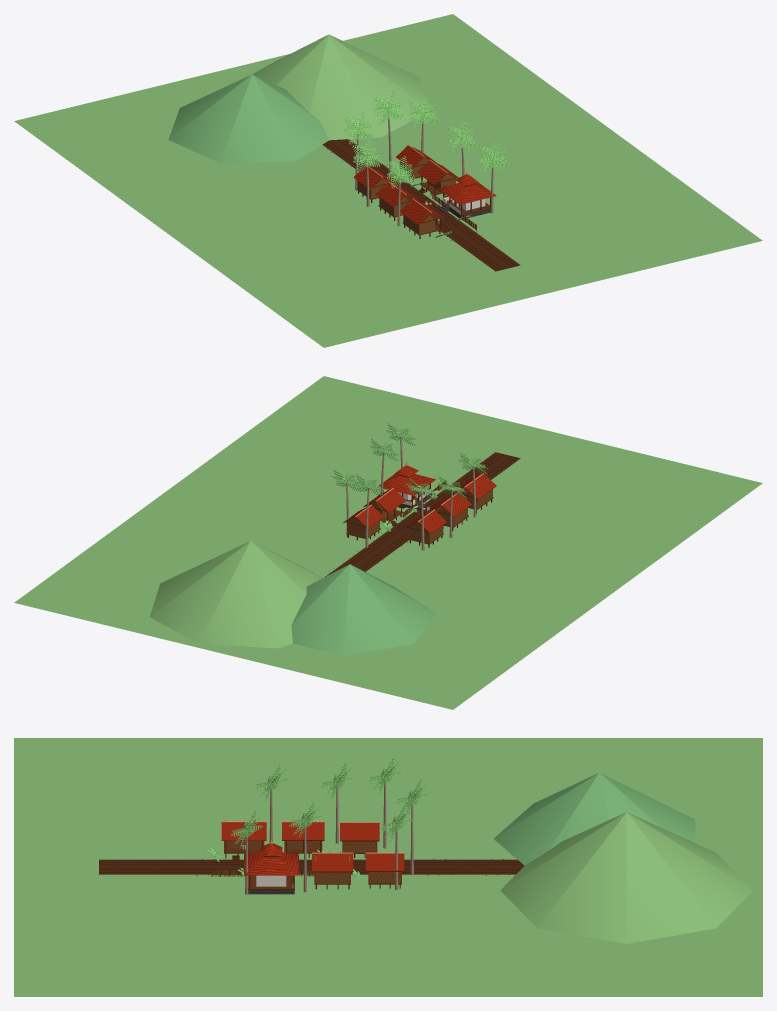
File: 4.Banten_Village_Musala_WebAR-compressed.glb
3 views of the same model, one above another, from view 1: azimuth 30°, elevation 25°; view 2: azimuth 150°, elevation 25°; view 3: azimuth 270°, elevation 25° (orthographic). The views are drawn at different scales.
Visible parts, largest first — view 1: Banten_Village_Reconstruction, Banten_Musala; view 2: Banten_Village_Reconstruction, Banten_Musala; view 3: Banten_Village_Reconstruction, Banten_Musala.
Part boxes in pixels (x1,y1,x2,y2): Banten_Village_Reconstruction: [14, 14, 762, 347]; Banten_Musala: [438, 170, 496, 219]; Banten_Village_Reconstruction: [14, 376, 762, 709]; Banten_Musala: [379, 462, 435, 509]; Banten_Village_Reconstruction: [14, 738, 762, 996]; Banten_Musala: [244, 839, 298, 894].
Bounding box in the file's own units: 90 × 15.26 × 110.
19 materials, 6 textured.
